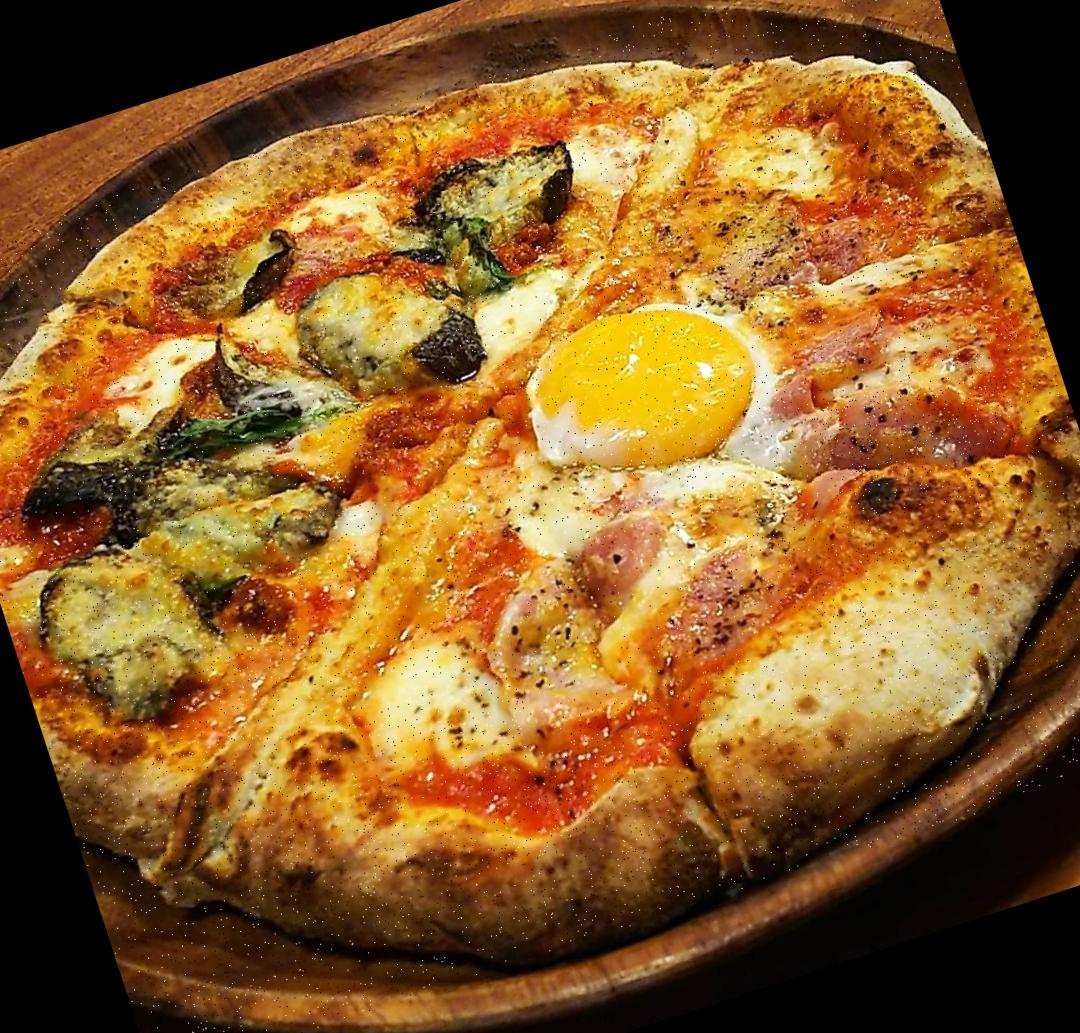Ham: (486, 494, 782, 725), (744, 211, 918, 407), (801, 350, 1019, 504), (904, 596, 906, 598)
Pizza: (0, 0, 1080, 1033)
